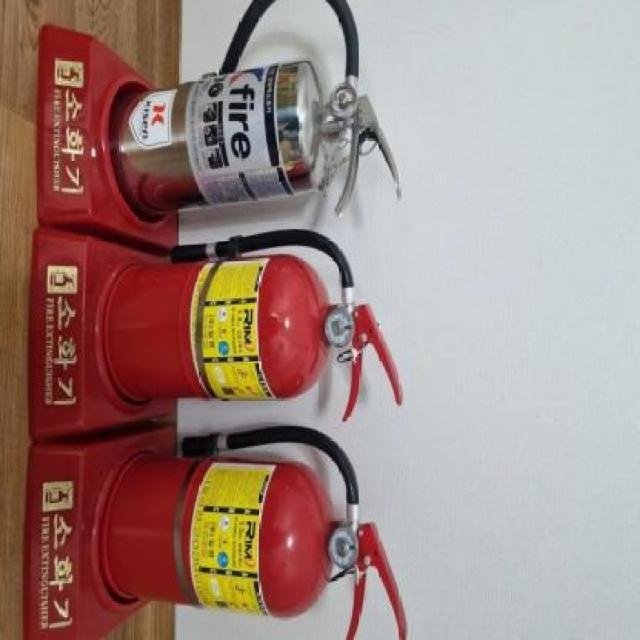fire extinguisher: (100, 423, 408, 640), (111, 0, 402, 218), (104, 229, 404, 423)
